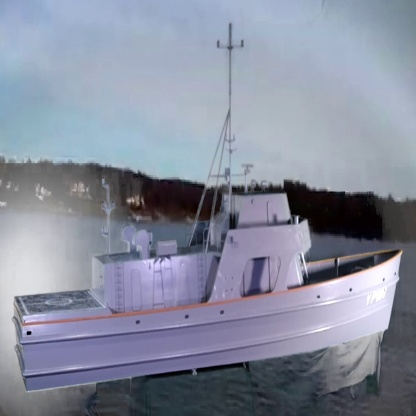YP689: (12, 23, 405, 394)
